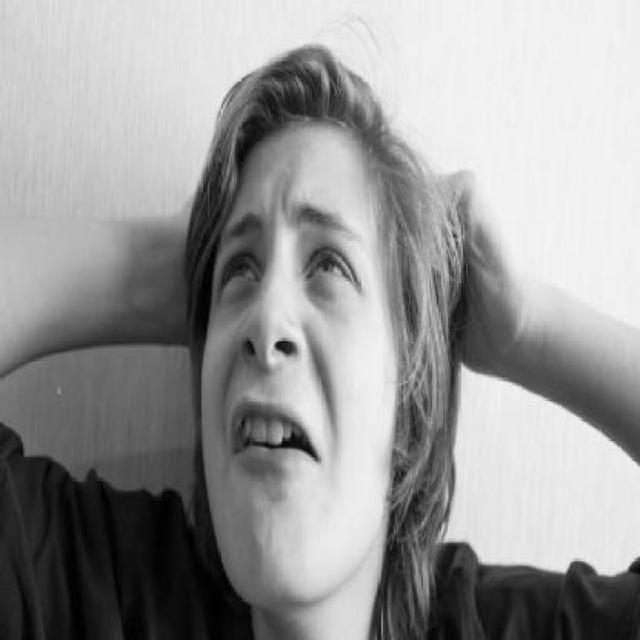fear: (222, 177, 366, 477)
